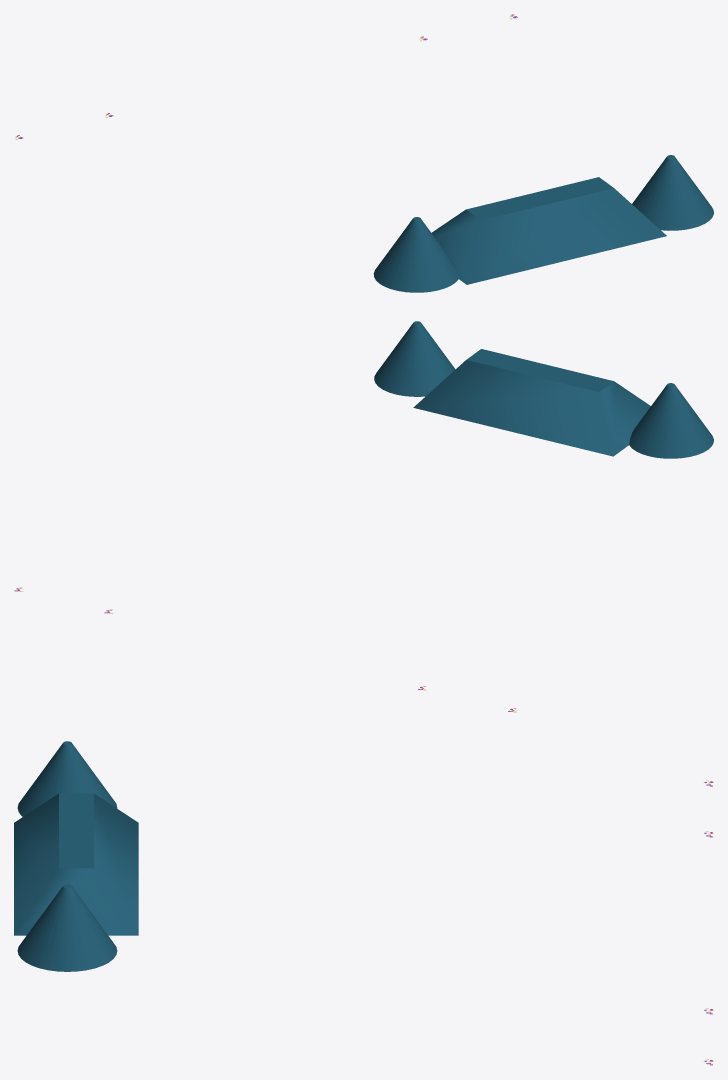
Rendered from castle-11.glb.
3 views of the same model, one above another, from view 1: azimuth 30°, elevation 25°; view 2: azimuth 150°, elevation 25°; view 3: azimuth 270°, elevation 25° (orthographic). The views are drawn at different scales.
Visible parts, largest first — view 1: NC.Export.Gatehouse.TealRoof; view 2: NC.Export.Gatehouse.TealRoof; view 3: NC.Export.Gatehouse.TealRoof.
Boxes of the visible parts, x1,y1,x2,y2 form: NC.Export.Gatehouse.TealRoof: (373, 155, 713, 292); NC.Export.Gatehouse.TealRoof: (374, 321, 713, 458); NC.Export.Gatehouse.TealRoof: (14, 741, 138, 971).
Size of the model in its own units: 75.22 by 13.55 by 78.55.
